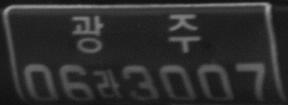0: (195, 62, 233, 102), (22, 62, 57, 102), (160, 62, 195, 101)
3: (121, 63, 159, 100)
6: (58, 63, 94, 102)
7: (234, 60, 266, 103)
광주_D: (71, 13, 201, 54)
라: (94, 67, 121, 99)
